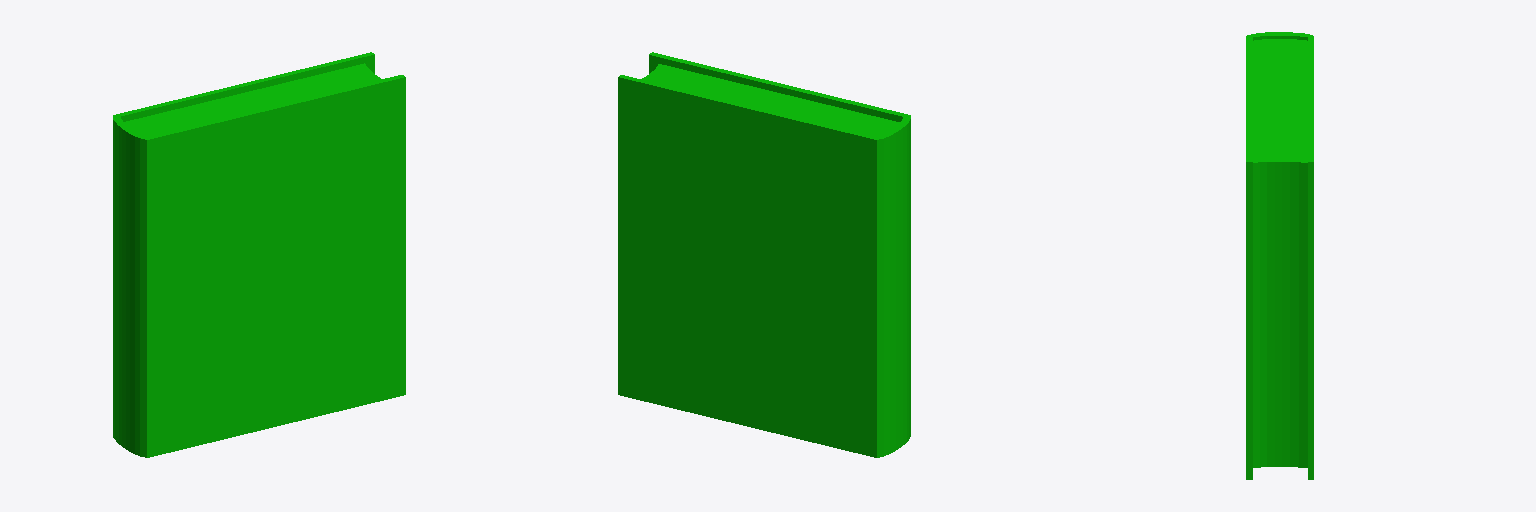
File: book-green.obj
3 renders of one model, left to right at view 1: azimuth 30°, elevation 25°; view 2: azimuth 150°, elevation 25°; view 3: azimuth 270°, elevation 25°, orthographic.
Visible parts, largest first — view 1: Cube.001; view 2: Cube.001; view 3: Cube.001.
Part boxes in pixels (left/top/right/bottom): Cube.001: left=113, top=52, right=405, bottom=457; Cube.001: left=618, top=52, right=910, bottom=457; Cube.001: left=1246, top=32, right=1313, bottom=479.
Size of the model in its own units: 0.4137 by 0.4733 by 0.0919.